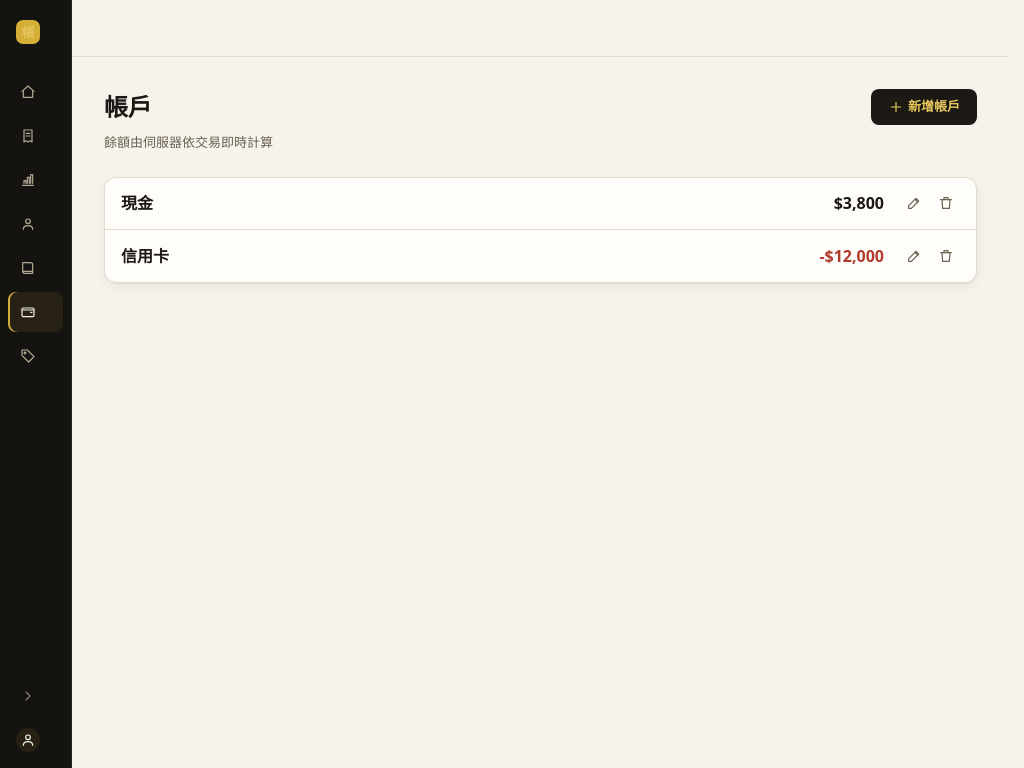
Test: Accounts page › explains a rejected delete and leaves the account in place
Click the button named "刪除現金" at [946, 203], box [932, 189, 960, 217]
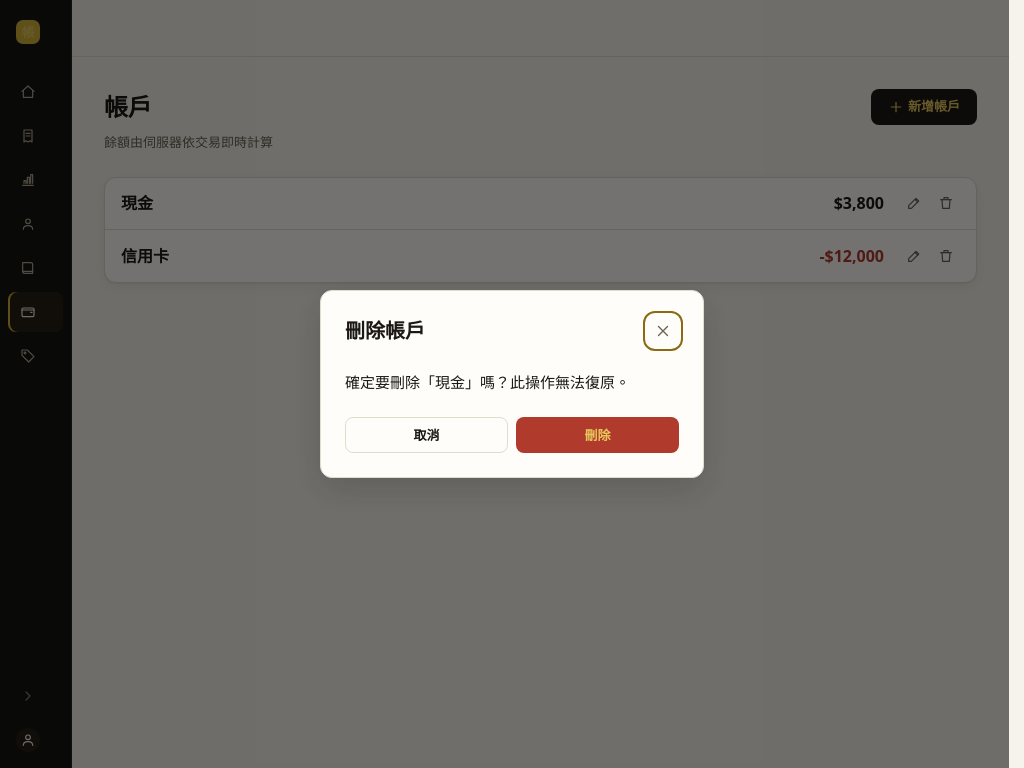
Click the button "刪除" at [598, 435], box [516, 417, 679, 453]
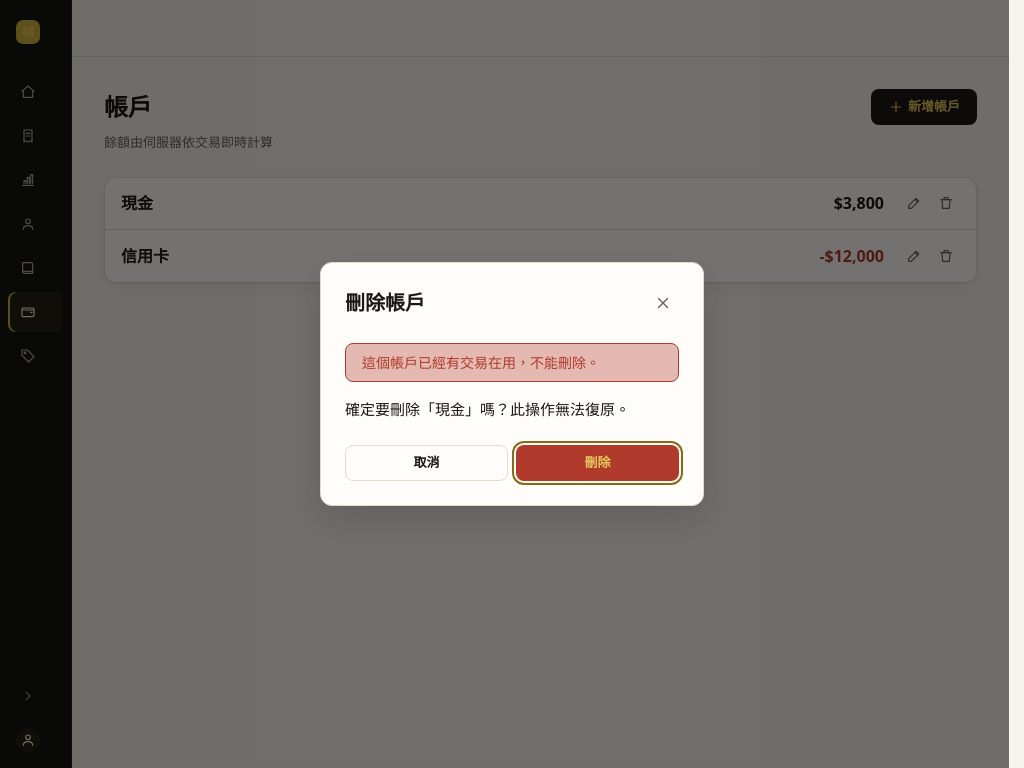
Expected: the text "現金" is shown, [121, 192, 153, 214]
Now the message shows "已經有交易在用", box [362, 353, 600, 372]
